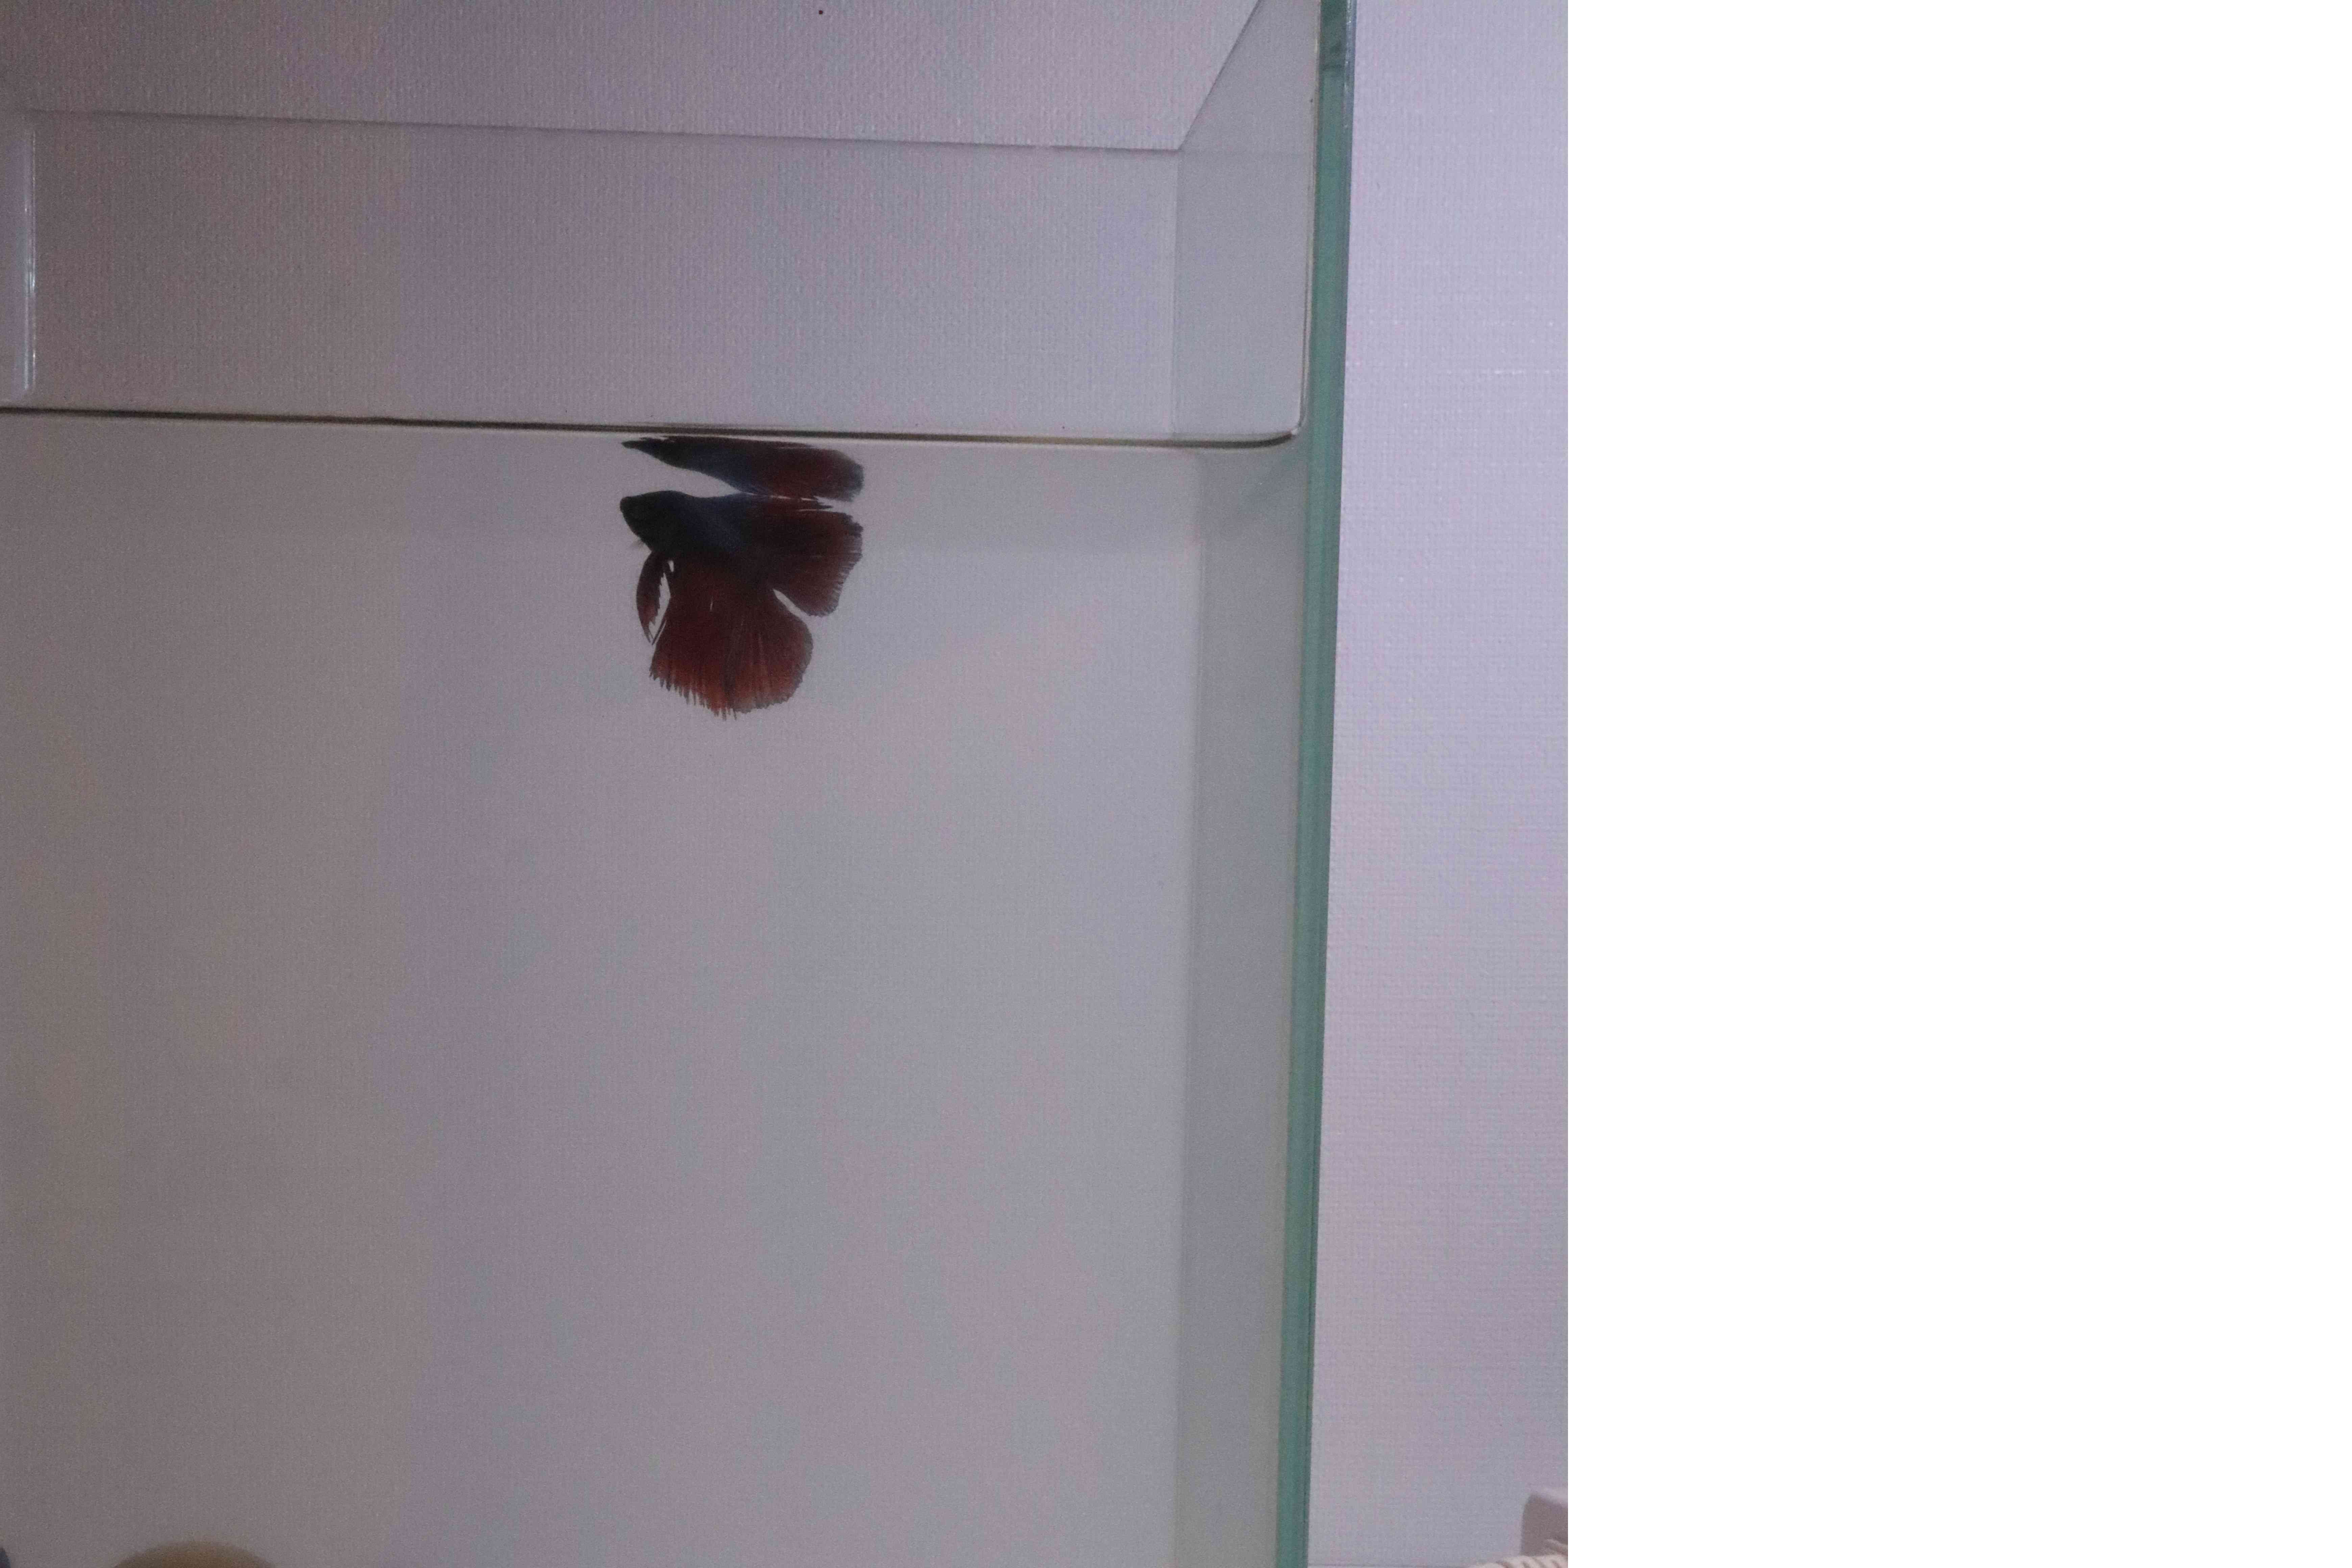fish: (606, 480, 886, 726)
